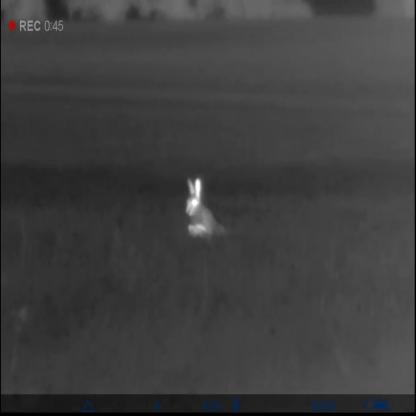rehkitze: (180, 179, 226, 245)
